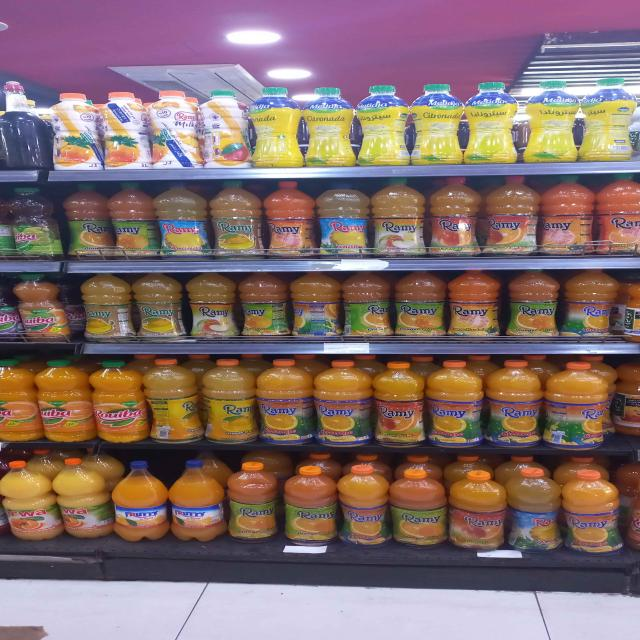metidja_plastique: (578, 76, 637, 163), (461, 81, 517, 165), (248, 86, 304, 169), (355, 85, 411, 167), (410, 83, 464, 165), (524, 80, 578, 162), (301, 87, 355, 168)
ramy_plastique: (544, 362, 611, 450), (560, 468, 622, 557), (502, 466, 562, 556), (447, 467, 509, 553), (312, 360, 371, 447), (484, 360, 543, 447), (255, 358, 313, 446), (425, 360, 483, 447), (141, 359, 200, 444), (388, 467, 447, 551), (1, 460, 62, 541), (201, 357, 257, 445), (168, 459, 226, 542), (111, 460, 169, 542), (283, 464, 339, 548), (336, 464, 390, 550), (50, 92, 108, 172), (484, 175, 542, 255), (149, 90, 207, 170), (371, 362, 425, 447), (222, 461, 277, 544), (535, 175, 593, 253), (97, 92, 153, 171), (198, 89, 252, 170), (210, 182, 266, 259), (155, 182, 210, 260), (369, 178, 424, 255), (59, 459, 109, 543), (558, 268, 618, 338), (427, 177, 480, 256), (315, 181, 369, 257), (63, 182, 113, 259), (106, 180, 156, 256), (593, 174, 640, 254), (266, 181, 316, 256), (505, 268, 559, 337), (448, 269, 503, 336), (79, 273, 133, 341), (393, 270, 447, 338), (131, 273, 184, 342), (289, 271, 341, 338), (186, 272, 237, 340), (238, 272, 290, 338), (342, 271, 392, 337)
rouiba_plastique: (36, 360, 95, 441), (92, 361, 148, 444), (15, 273, 69, 340), (7, 190, 56, 261), (0, 361, 43, 439), (0, 278, 23, 338)
